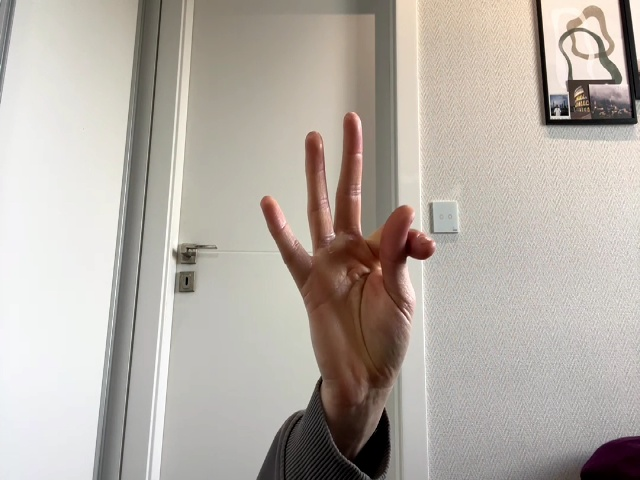T: (261, 112, 435, 398)
